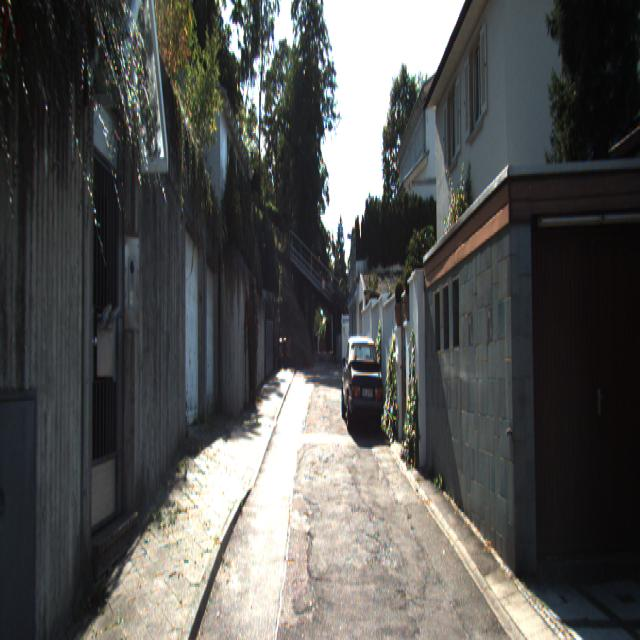Car: (340, 324, 386, 432)
